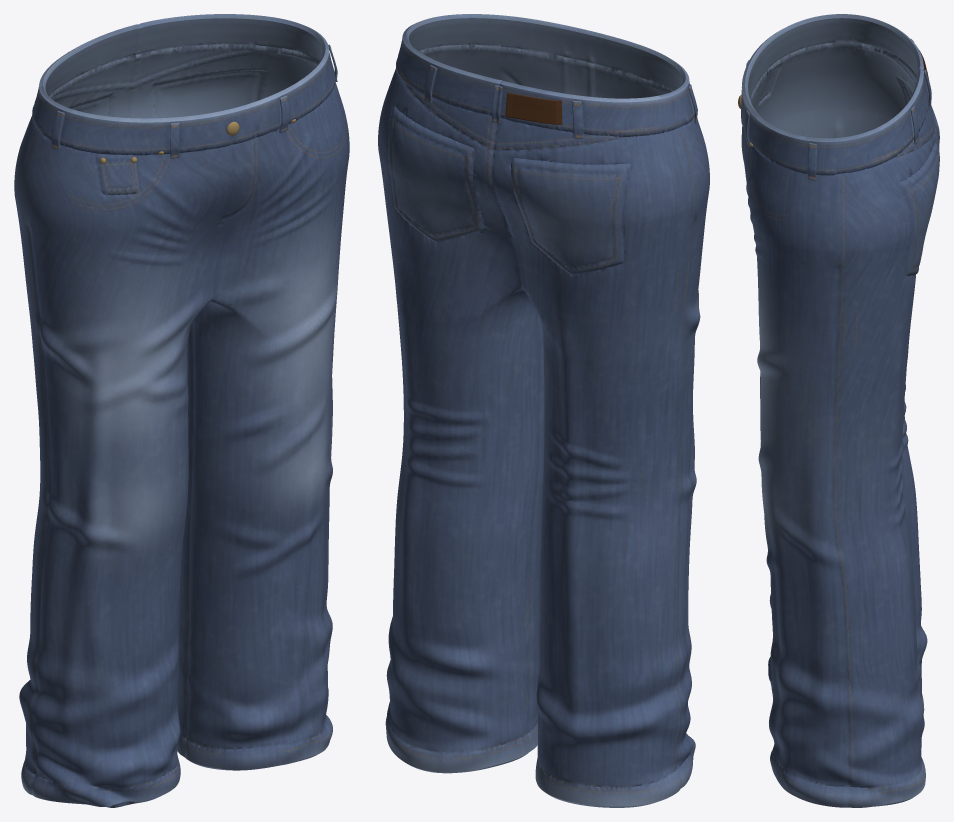
Rendered from 23_vaquero_recto_pbr.glb.
3 renders of one model, left to right at view 1: azimuth 30°, elevation 25°; view 2: azimuth 150°, elevation 25°; view 3: azimuth 270°, elevation 25°, orthographic. The views are drawn at different scales.
Visible parts, largest first — view 1: Vaquero PBR; view 2: Vaquero PBR, Etiqueta de piel; view 3: Vaquero PBR.
Boxes of the visible parts, x1,y1,x2,y2 form: Vaquero PBR: (14,14,349,807); Vaquero PBR: (378,14,709,807); Etiqueta de piel: (505,92,562,124); Vaquero PBR: (741,14,939,807).
Size of the model in its own units: 0.4408 by 0.969 by 0.2597.
Materials: 3 (1 with a texture image).
